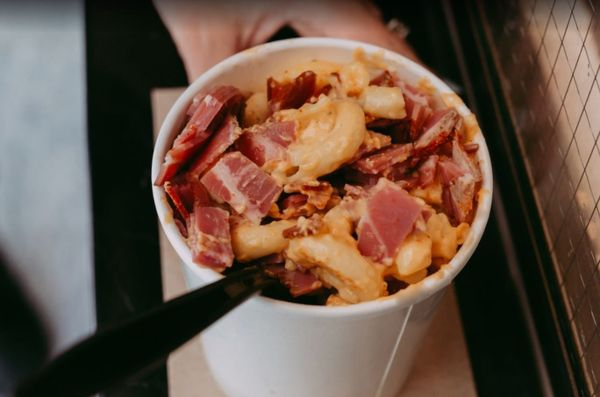sushi: (138, 36, 494, 393)
